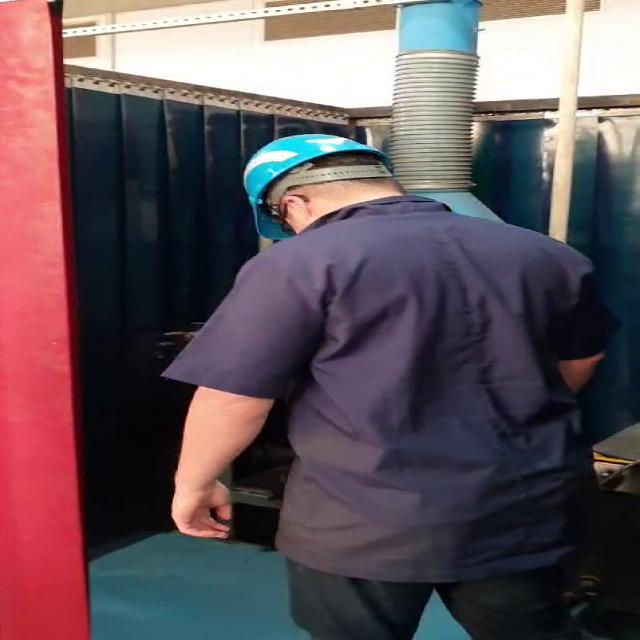oculos-epi: (274, 186, 316, 228)
